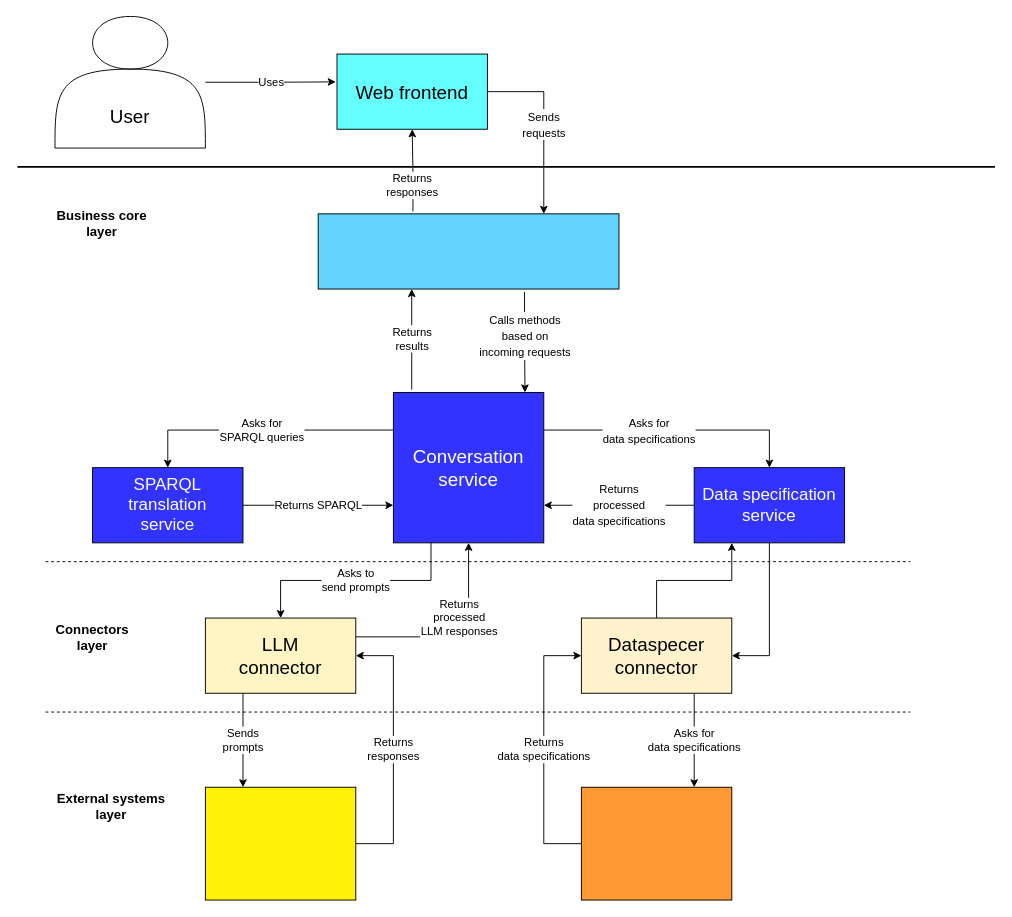
The diagram is 1012 pixels wide and 917 high, and some of its shapes have lost their labels. The shapes that lost their labels are listed below. From the top down, each one's centre as x and y in pixels, then its label:
At point (468, 251): "Request controller".
At point (280, 843): "LLM".
At point (656, 843): "Dataspecer".
